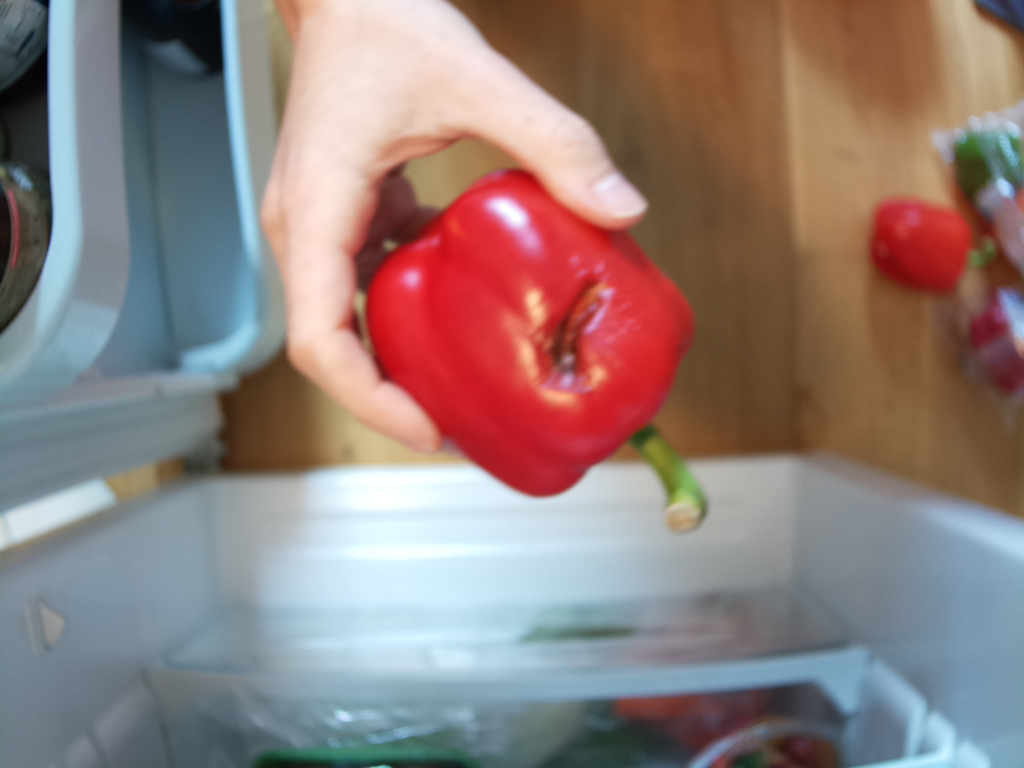pepper-bad: (357, 160, 725, 551)
